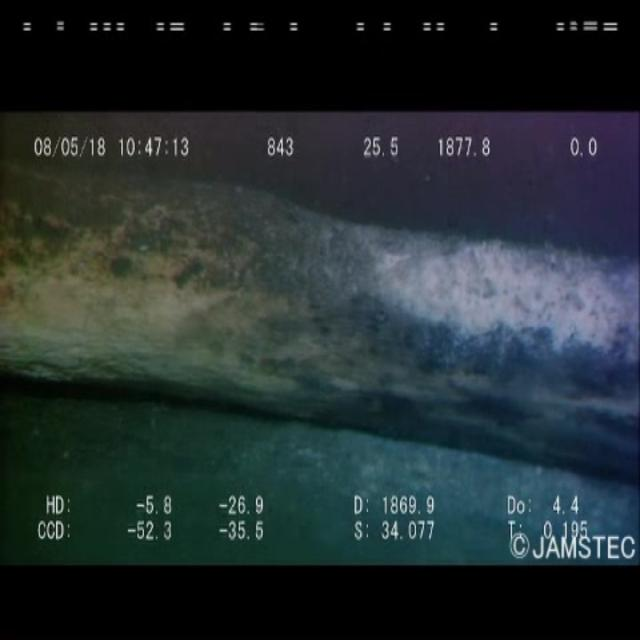Wood: (4, 152, 640, 480)
